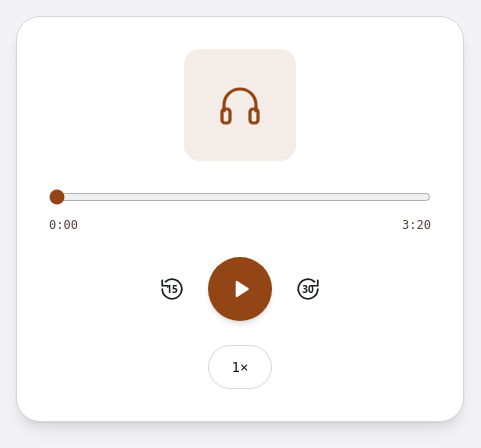
Test: the audio player: speed › goes through the speeds and back to the first, and says which it is at
This screenshot has width=481, height=448.
Click the button "1×".
click(240, 367)  # box [208, 345, 272, 389]
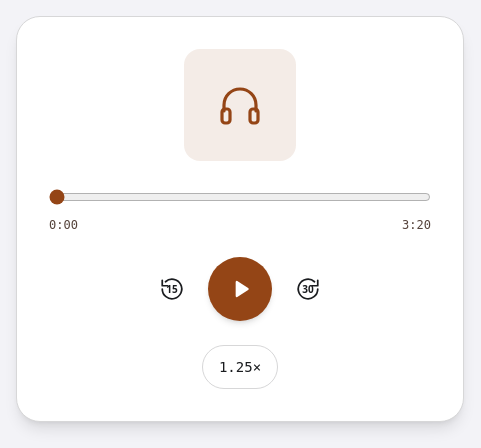
Click the button "1.25×".
click(240, 367)  # box [202, 345, 278, 389]
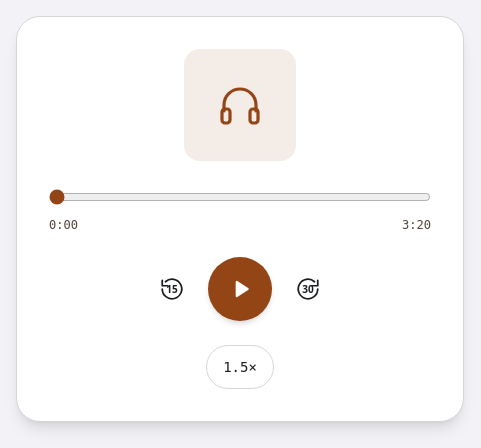
Click the button "1.5×".
click(240, 367)  # box [206, 345, 274, 389]
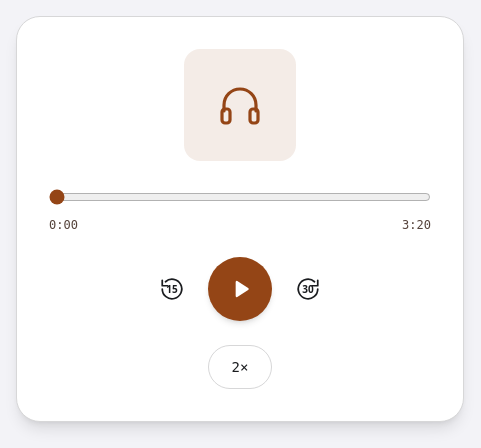
Click the button "2×".
click(240, 367)  # box [208, 345, 272, 389]
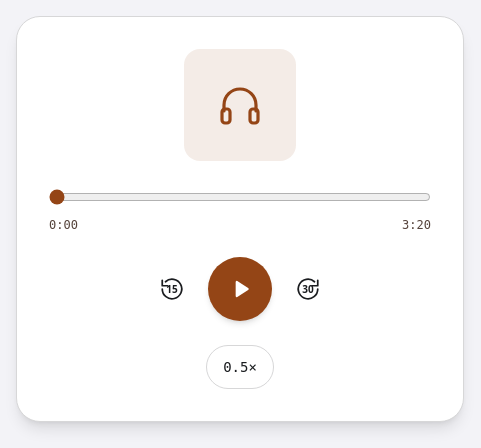
Click the button "0.5×".
click(240, 367)  # box [206, 345, 274, 389]
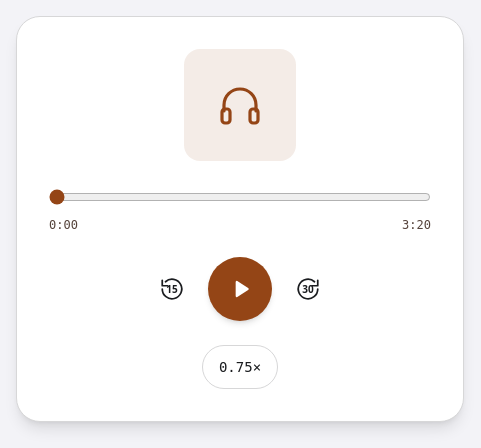
Click the button "0.75×".
click(240, 367)  # box [202, 345, 278, 389]
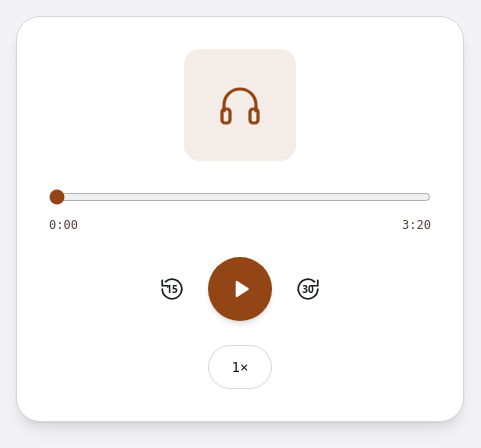
expect the button "1×" is shown: met, box [208, 345, 272, 389]
